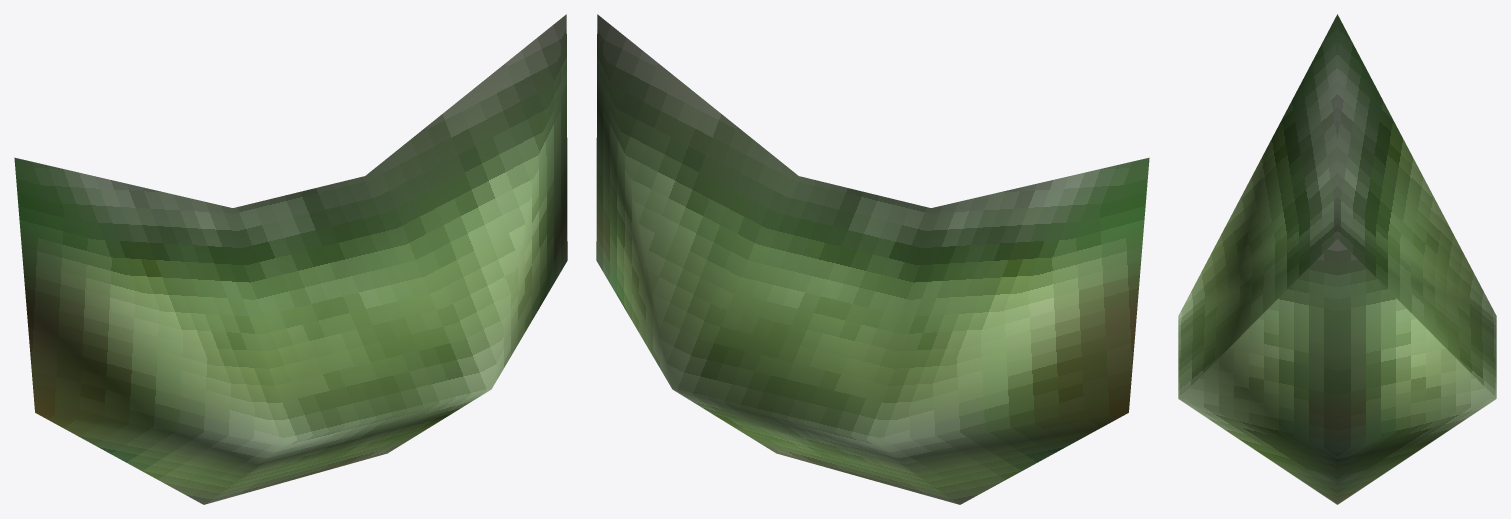
Rendered from chusukseung1.glb.
The picture shows the model from 3 angles, left to right: view 1: azimuth 30°, elevation 25°; view 2: azimuth 150°, elevation 25°; view 3: azimuth 270°, elevation 25°; orthographic projection. The views are drawn at different scales.
Visible parts, largest first — view 1: model_chusukseung1; view 2: model_chusukseung1; view 3: model_chusukseung1.
Part boxes in pixels (x1,y1,x2,y2): model_chusukseung1: (14,14,567,504); model_chusukseung1: (596,14,1149,504); model_chusukseung1: (1178,14,1496,504).
Size of the model in its own units: 0.4935 by 0.3431 by 0.2849.
1 material, 1 textured.
